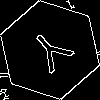Y: (25, 25, 82, 82)
